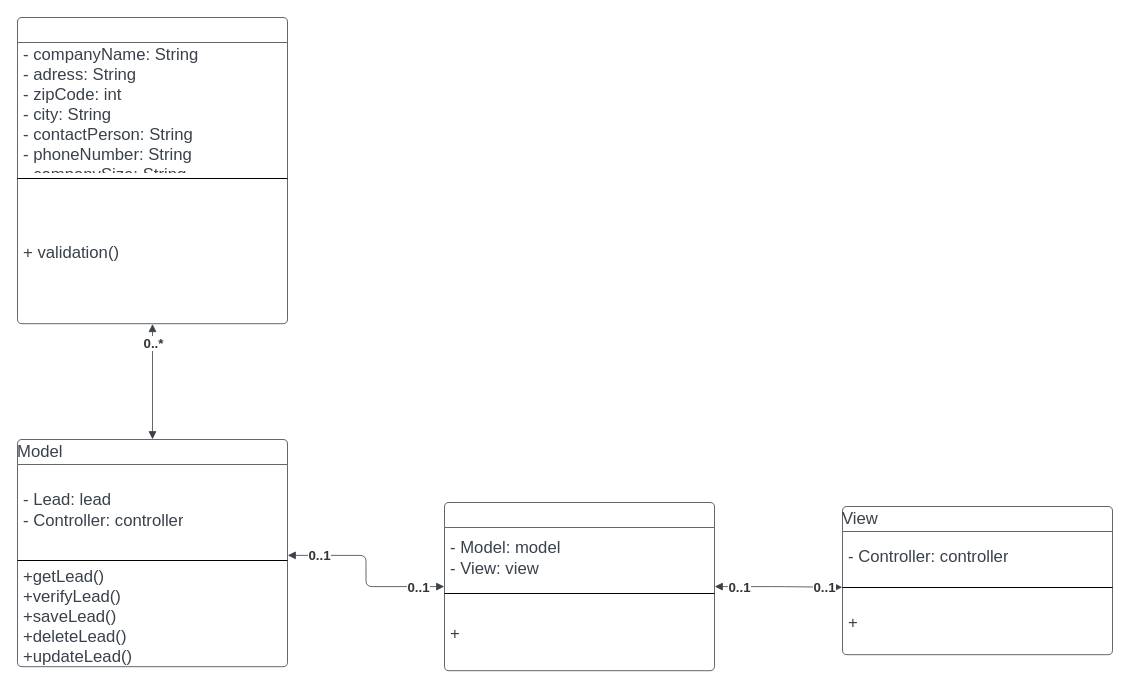
Some shapes in this 1130 by 688 pixel diagram are drawn without their labels. Each missing label, with the box of its shape:
Controller: (444, 502, 714, 671)
Lead: (17, 17, 287, 324)
